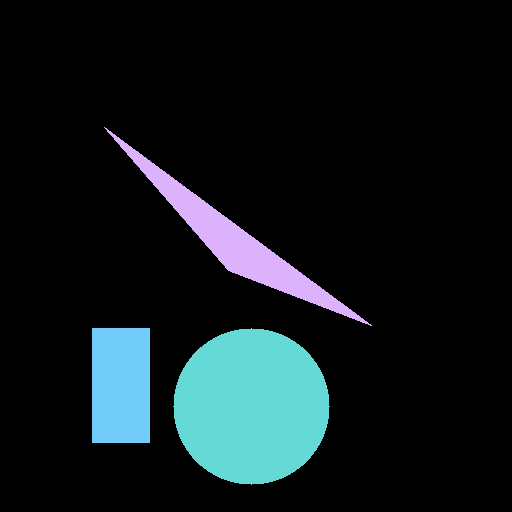circle: (173, 328, 329, 484)
rectangle: (92, 328, 149, 442)
triangle: (104, 127, 371, 325)
